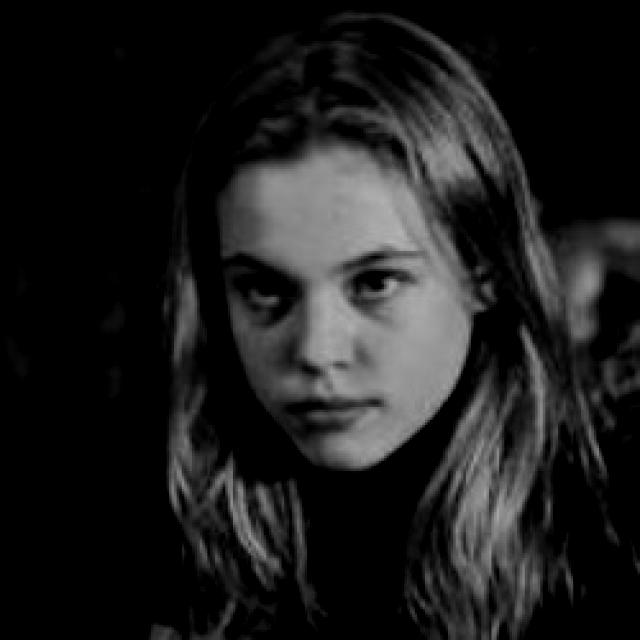real: (188, 34, 503, 460), (235, 261, 432, 324)
